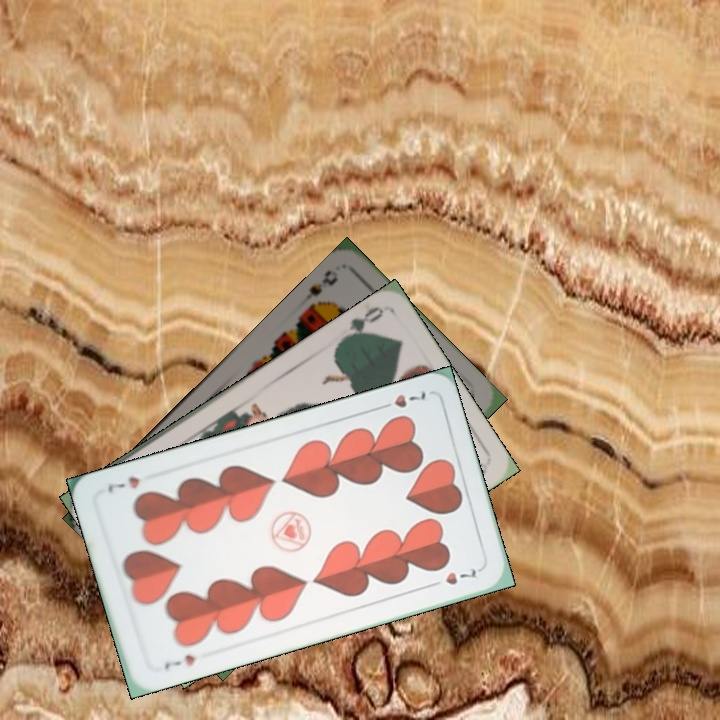GO: (335, 302, 386, 346)
H7: (373, 386, 429, 413), (160, 650, 198, 672)
S9: (301, 266, 341, 314)
